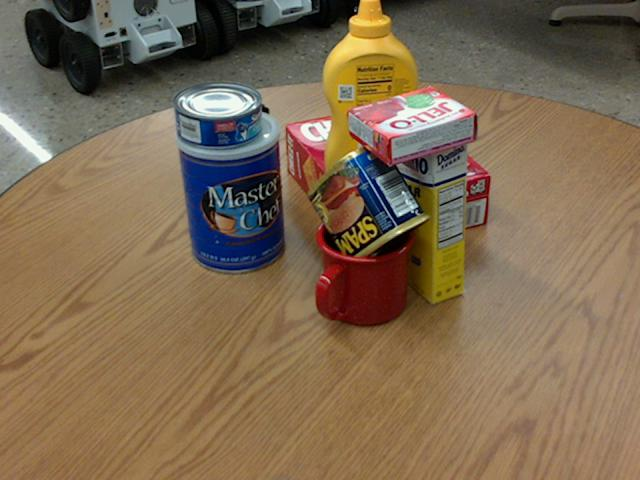cracker_box: (284, 101, 488, 255)
gelatin_box: (348, 86, 477, 164)
large_marker: (252, 106, 274, 206)
master_chef_can: (175, 105, 286, 271)
mug: (312, 210, 413, 327)
mustard_bottle: (323, 0, 418, 188)
potted_meat_can: (306, 142, 431, 270)
sugar_box: (380, 100, 467, 306)
tomato_soup_can: (329, 38, 390, 143)
tuna_fish_can: (172, 81, 261, 147)
